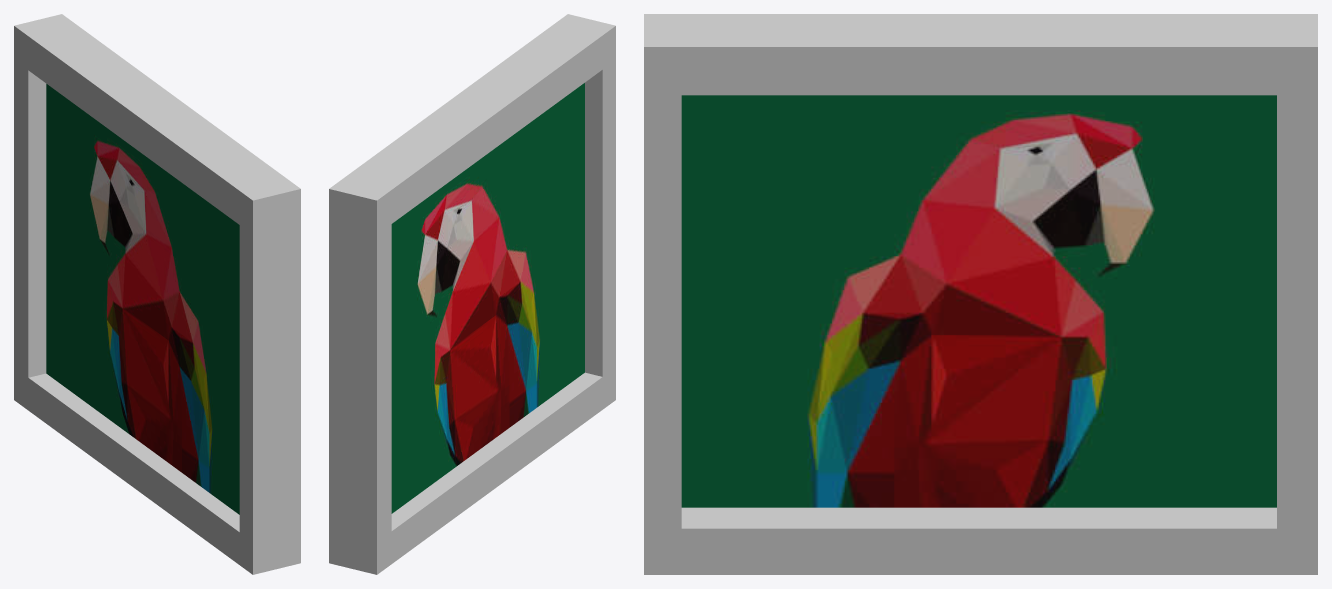
3 views of the same model, side by side, from view 1: azimuth 30°, elevation 25°; view 2: azimuth 150°, elevation 25°; view 3: azimuth 270°, elevation 25° (orthographic). The views are drawn at different scales.
Visible parts, largest first — view 1: Cube, 4-min; view 2: Cube, 4-min; view 3: 4-min, Cube.
Boxes of the visible parts, box(x1,y1,x2,y2) form: Cube: box(14, 14, 300, 574); 4-min: box(46, 84, 239, 514); Cube: box(329, 14, 615, 574); 4-min: box(391, 83, 584, 513); 4-min: box(681, 95, 1276, 507); Cube: box(644, 14, 1317, 574).
Size of the model in its own units: 16.77 by 125 by 144.
